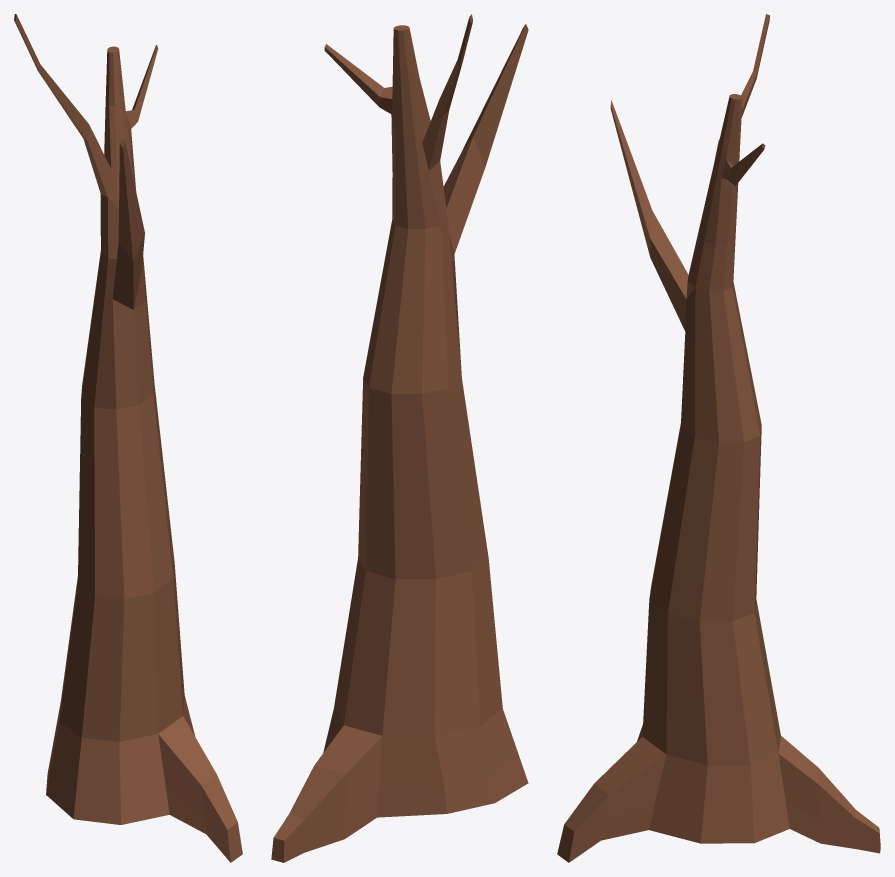
Rendered from arvore1.fbx.
3 views of the same model, side by side, from view 1: azimuth 30°, elevation 25°; view 2: azimuth 150°, elevation 25°; view 3: azimuth 270°, elevation 25° (orthographic). The views are drawn at different scales.
Visible parts, largest first — view 1: Circle.003; view 2: Circle.003; view 3: Circle.003.
Part boxes in pixels (bbox=[...]): Circle.003: bbox=[14, 14, 242, 862]; Circle.003: bbox=[271, 14, 528, 862]; Circle.003: bbox=[557, 14, 880, 862].
Bounding box in the file's own units: 156 × 771 × 287.
